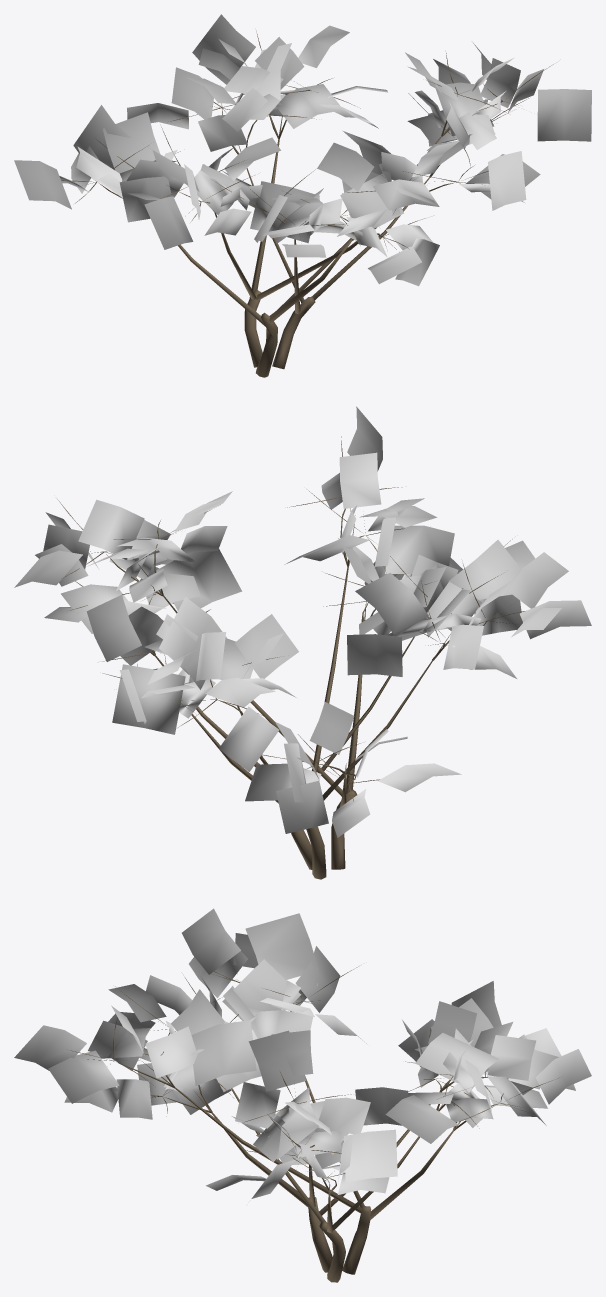
File: V7_Genevrier_1_Niveau2.fbx
3 views of the same model, one above another, from view 1: azimuth 30°, elevation 25°; view 2: azimuth 150°, elevation 25°; view 3: azimuth 270°, elevation 25° (orthographic). The views are drawn at different scales.
Visible parts, largest first — view 1: V7_Genevrier_1_Detail2; view 2: V7_Genevrier_1_Detail2; view 3: V7_Genevrier_1_Detail2.
Part boxes in pixels (left/top/right/bottom): V7_Genevrier_1_Detail2: left=14, top=14, right=591, bottom=377; V7_Genevrier_1_Detail2: left=14, top=406, right=591, bottom=879; V7_Genevrier_1_Detail2: left=14, top=908, right=591, bottom=1282.
Size of the model in its own units: 335 by 202 by 343.
